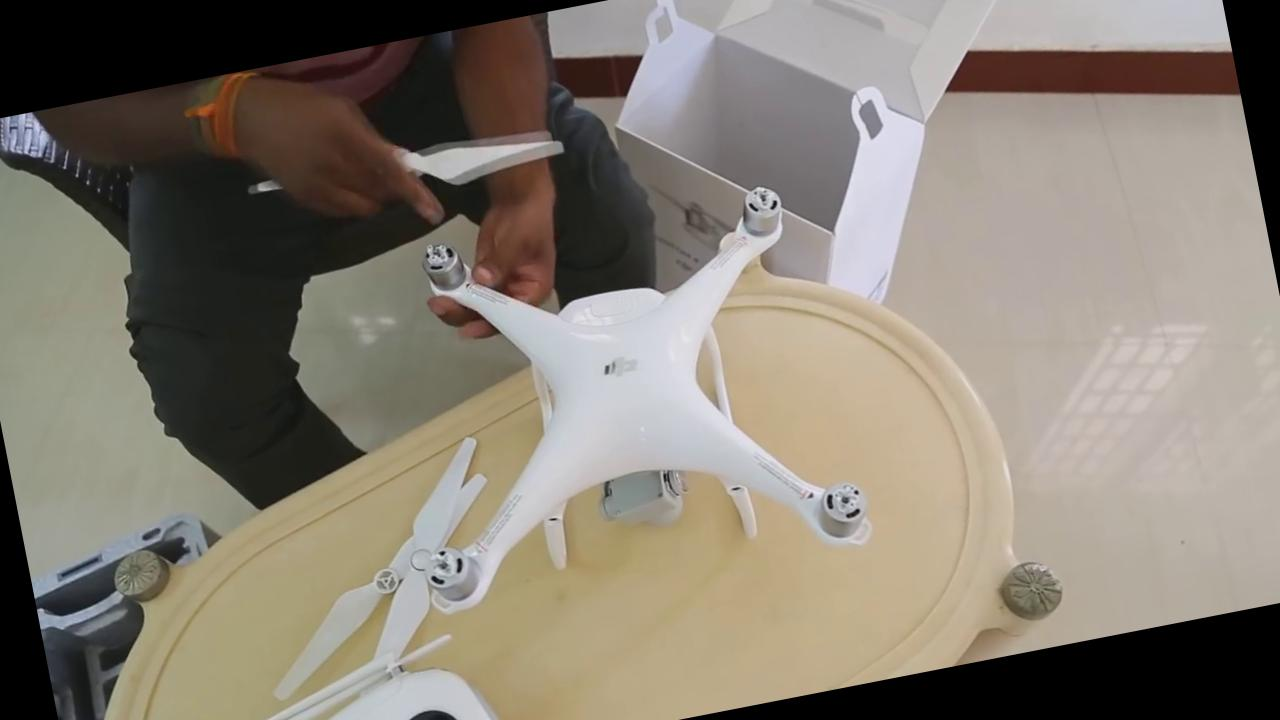drone: (356, 164, 894, 635)
